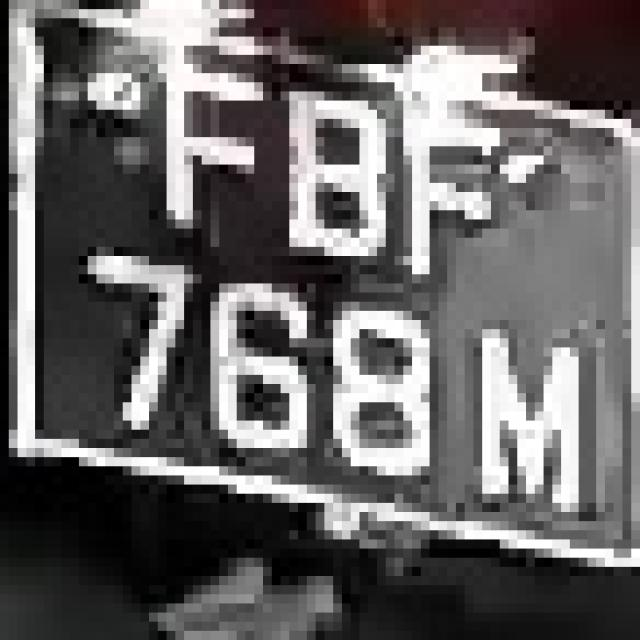6: (193, 229, 315, 466)
7: (79, 219, 202, 466)
8: (324, 256, 456, 494)
B: (254, 64, 395, 274)
F: (386, 73, 544, 293), (140, 64, 281, 265)
M: (456, 320, 605, 530)
